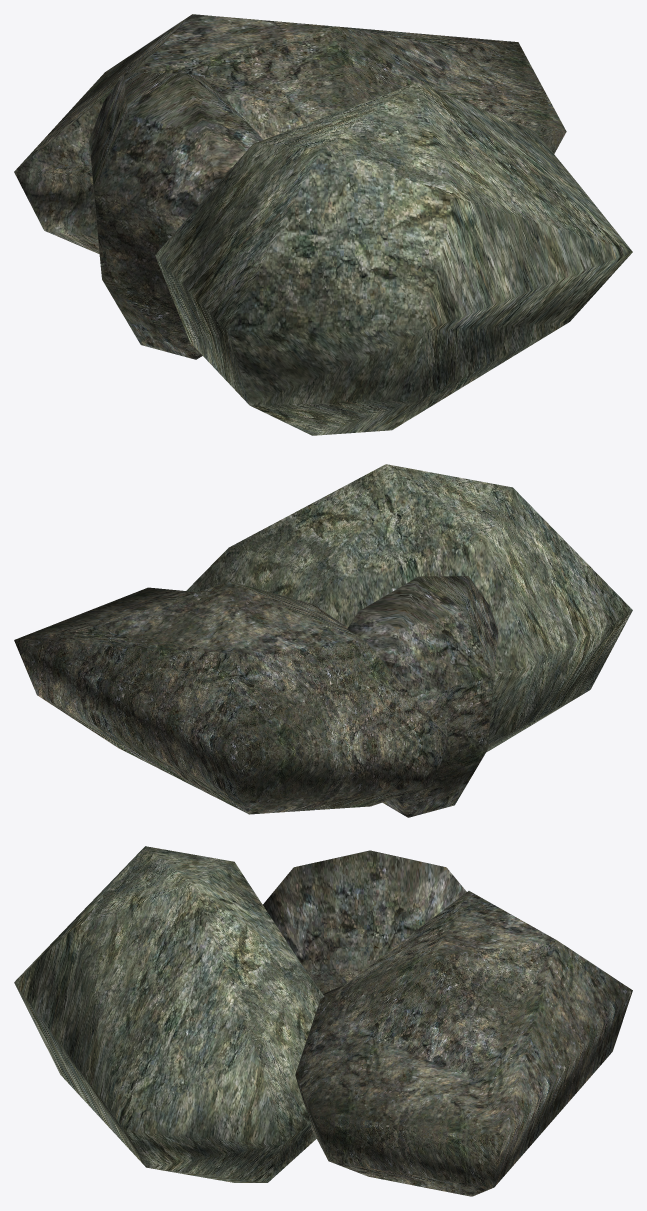
Rendered from mtns_rock_grey_a10_l0.fbx.
3 renders of one model, top to bottom at view 1: azimuth 30°, elevation 25°; view 2: azimuth 150°, elevation 25°; view 3: azimuth 270°, elevation 25°, orthographic. The views are drawn at different scales.
Parts seen in each view (by area): view 1: mesh_node; view 2: mesh_node; view 3: mesh_node.
Boxes of the visible parts, <box> form: mesh_node: <box>14,14,632,435</box>; mesh_node: <box>14,464,632,817</box>; mesh_node: <box>14,846,632,1196</box>.
Size of the model in its own units: 0.8569 by 0.5098 by 0.9915.
Materials: 2 (2 with a texture image).
